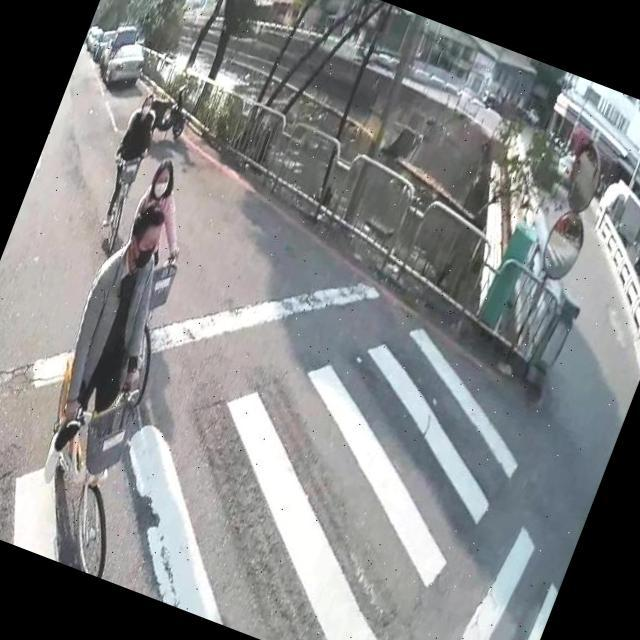person: (14, 188, 202, 504), (88, 85, 176, 235), (119, 151, 212, 274)
